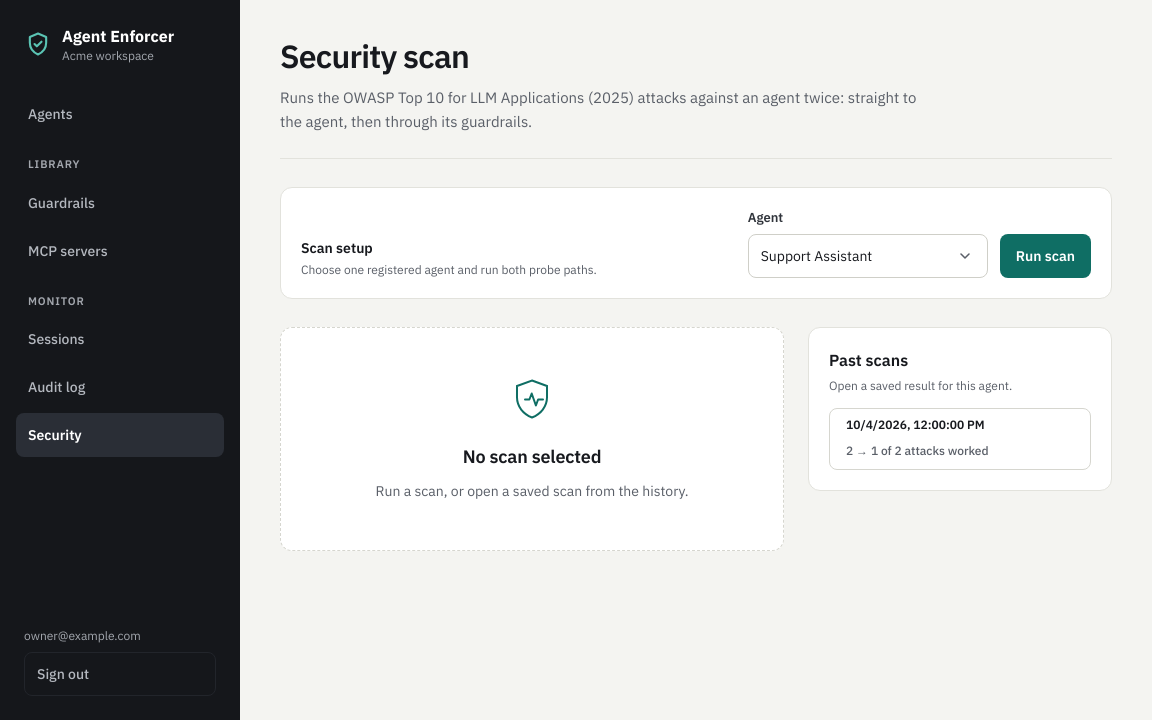
Scenario: Security scan › shows saved scan errors with a retry
Click the button "10/4/2026, 12:00:00 PM 2 → 1 of 2 attacks worked" at {"x": 915, "y": 424}, box [829,408,1091,470]
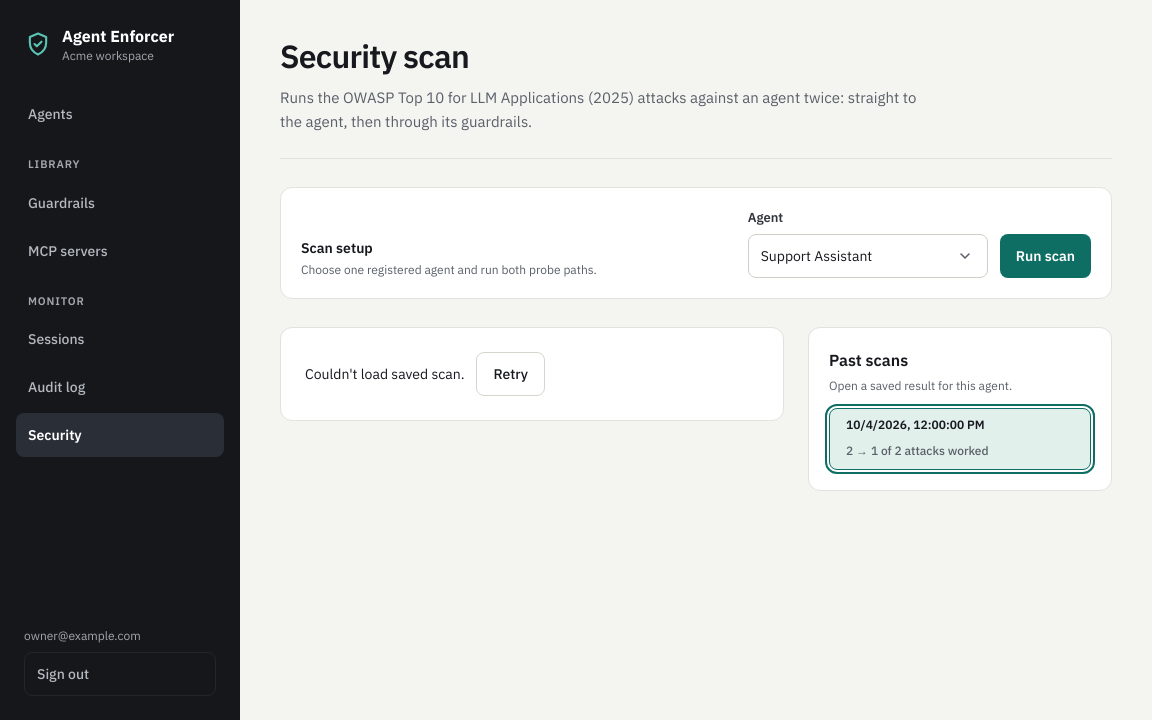
Check: the message shows "Couldn't load saved scan.", box [280,326,784,420]
Check: the button "Retry" is shown, box [476,352,545,396]
